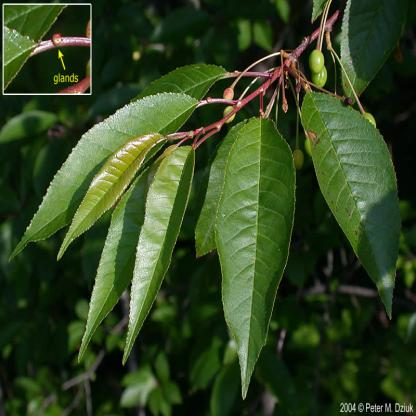cherry leaf: (14, 91, 201, 262), (302, 76, 408, 330), (212, 107, 297, 409), (115, 137, 204, 374), (55, 122, 175, 268), (104, 60, 233, 145)
